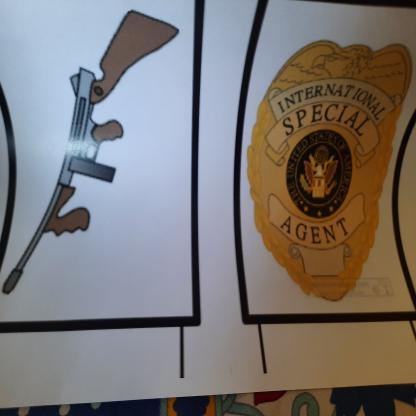Bootlegger: (2, 7, 184, 301)
G-man: (246, 19, 416, 313)
